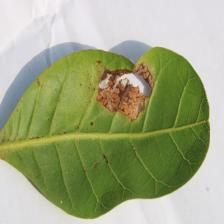leaf miner: (0, 45, 211, 219)
